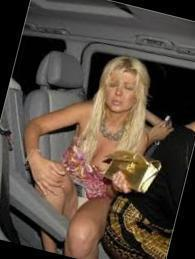Drunk: (108, 72, 134, 110)
